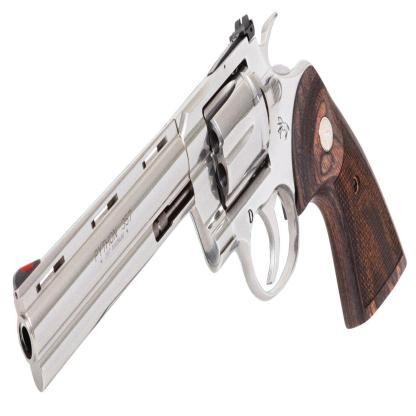handgun: (15, 10, 407, 396)
